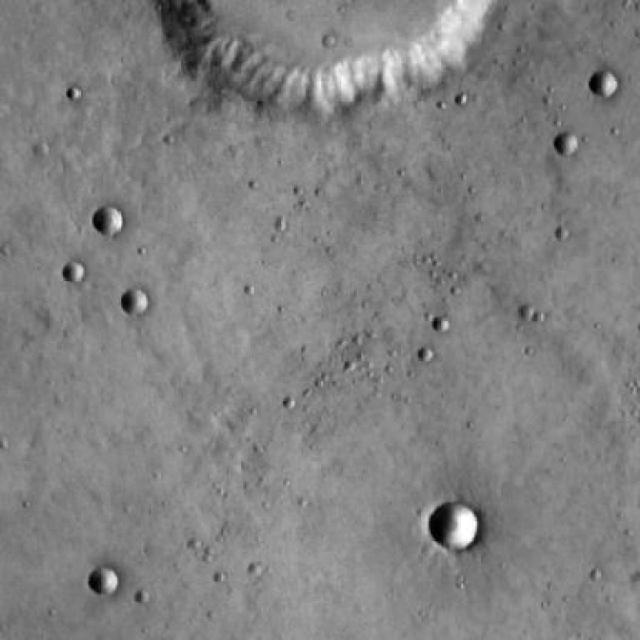crater: (156, 0, 489, 112), (428, 502, 479, 549), (90, 204, 122, 233), (86, 568, 115, 594), (121, 289, 147, 313), (588, 75, 614, 98), (66, 263, 89, 285), (553, 134, 575, 154), (433, 313, 453, 332)
